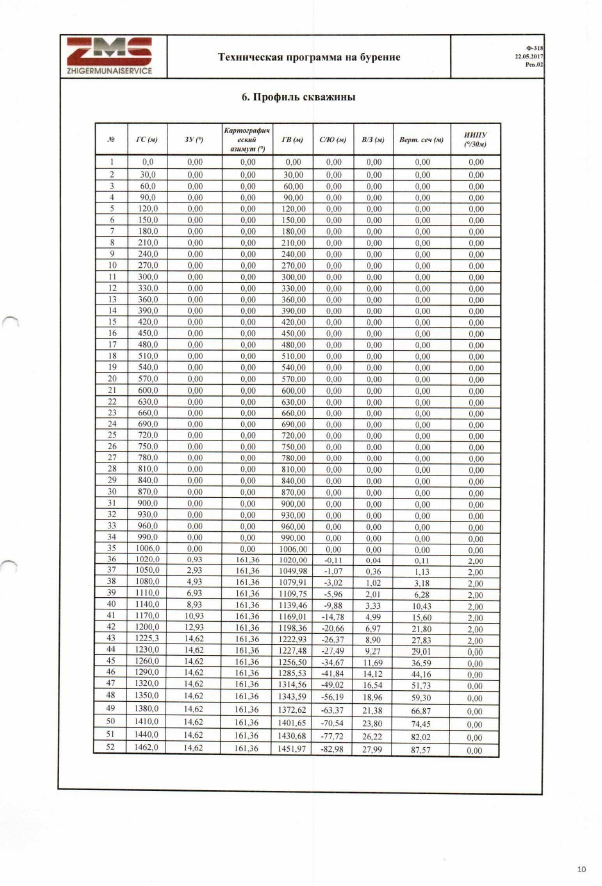Bordered: (94, 119, 498, 759)
